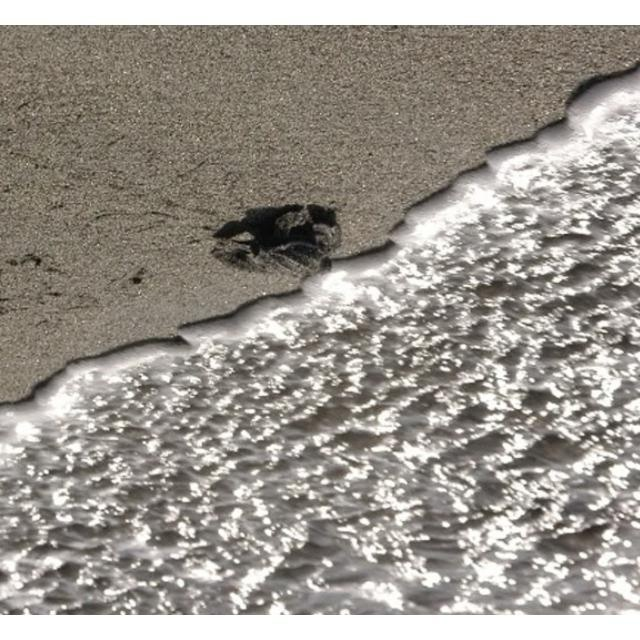turtle: (209, 202, 341, 276)
